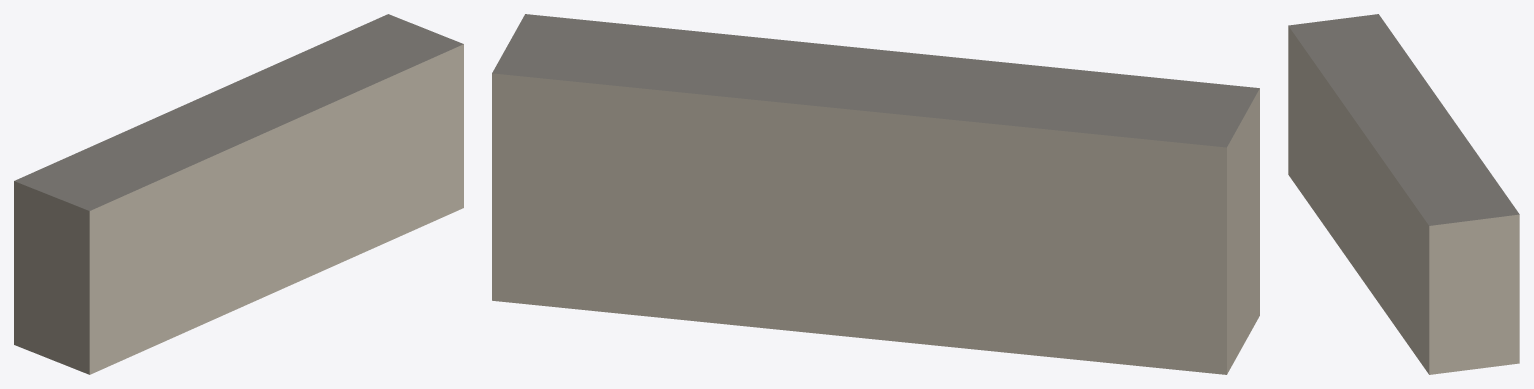
3 renders of one model, left to right at view 1: azimuth 30°, elevation 25°; view 2: azimuth 150°, elevation 25°; view 3: azimuth 270°, elevation 25°, orthographic. The views are drawn at different scales.
Parts seen in each view (by area): view 1: HP-w1203038194; view 2: HP-w1203038194; view 3: HP-w1203038194.
Part boxes in pixels (<box>): HP-w1203038194: <box>14,14,463,374</box>; HP-w1203038194: <box>492,14,1259,374</box>; HP-w1203038194: <box>1288,14,1519,374</box>.
Bounding box in the file's own units: 45.77 × 15 × 21.13.
